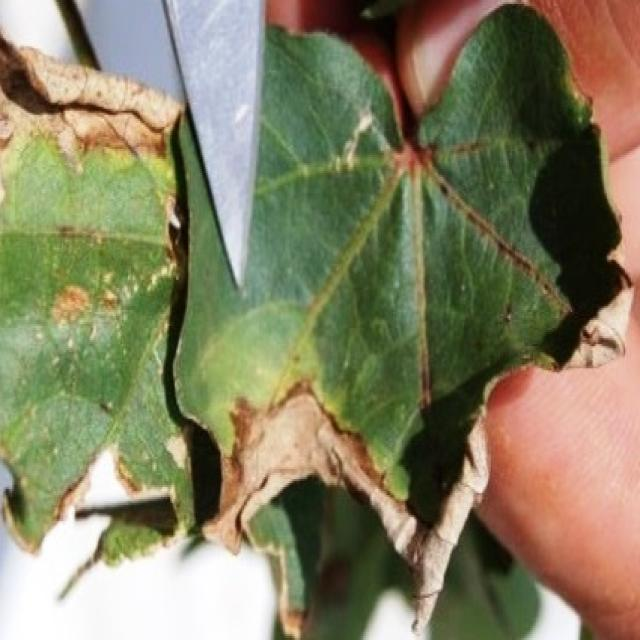Fusarium Wilt: (211, 366, 476, 561)
